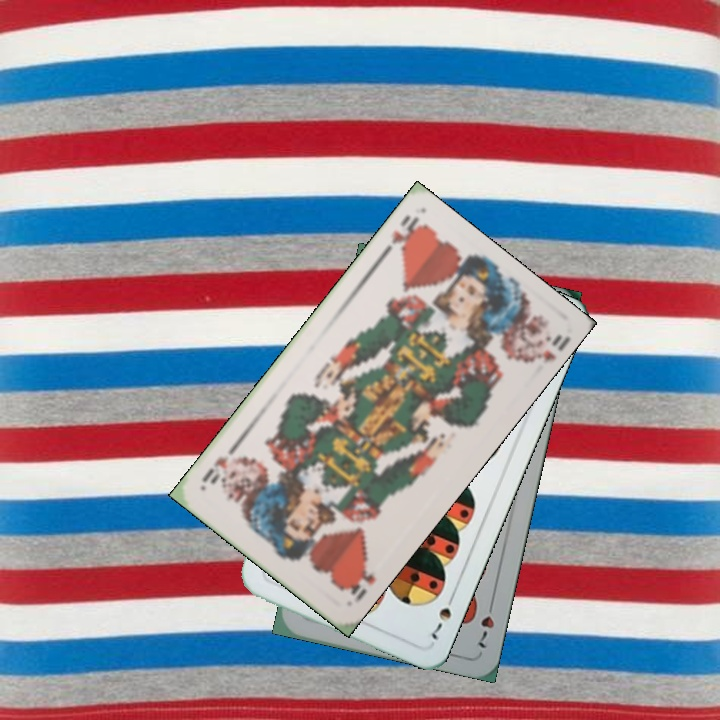H7: (474, 595, 497, 651)
HO: (377, 211, 426, 261), (338, 560, 378, 606)
S7: (427, 589, 458, 643)
